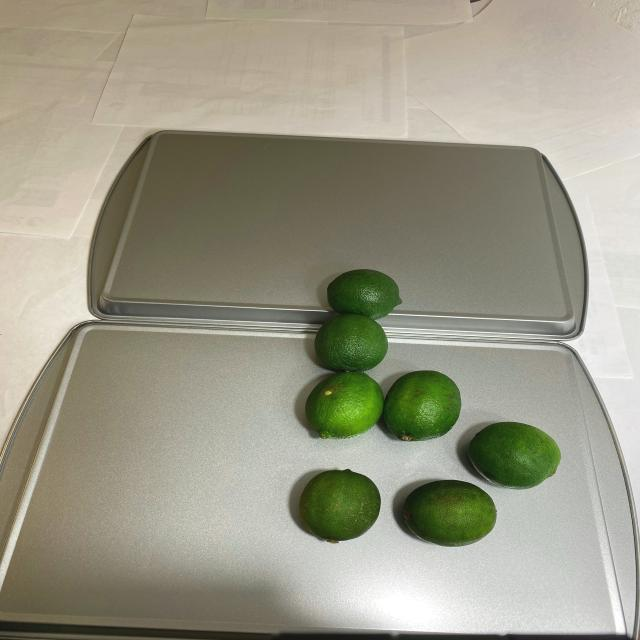lemon: (299, 265, 563, 557)
